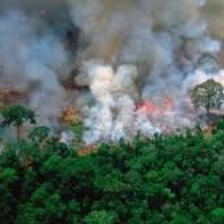incendio: (32, 55, 212, 156)
